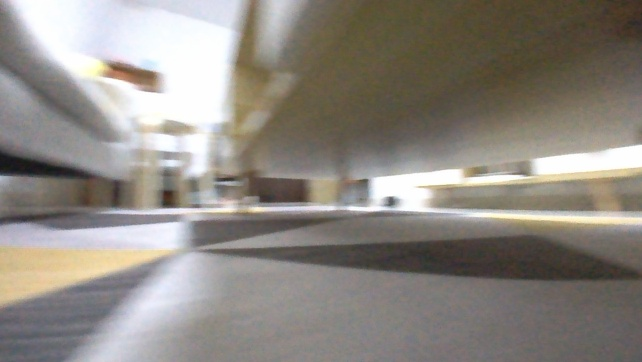blanket: (0, 206, 641, 361)
sofa1: (0, 0, 144, 191)
